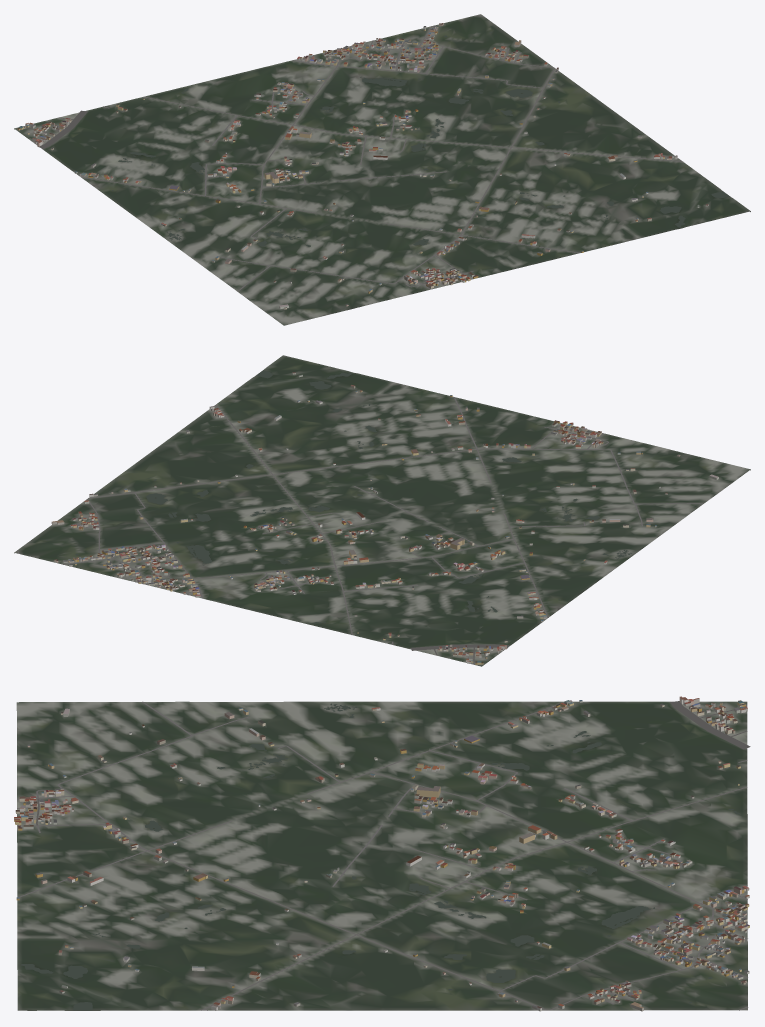
3 views of the same model, one above another, from view 1: azimuth 30°, elevation 25°; view 2: azimuth 150°, elevation 25°; view 3: azimuth 270°, elevation 25° (orthographic). The views are drawn at different scales.
Parts seen in each view (by area): view 1: ground, buildings, roads, water; view 2: ground, buildings, roads, water; view 3: ground, buildings, roads, water.
Part boxes in pixels (box(x1,y1,x2,y2)): ground: box(14, 14, 750, 325); buildings: box(17, 23, 708, 309); roads: box(25, 15, 682, 291); water: box(112, 32, 729, 246); ground: box(14, 355, 750, 666); buildings: box(51, 372, 718, 664); roads: box(17, 397, 704, 664); water: box(46, 370, 631, 623); ground: box(16, 701, 747, 1010); buildings: box(14, 696, 749, 1011); roads: box(17, 701, 750, 1010); water: box(21, 703, 740, 1010).
Bounding box in the file's own units: 1410 × 16.7 × 1414.
